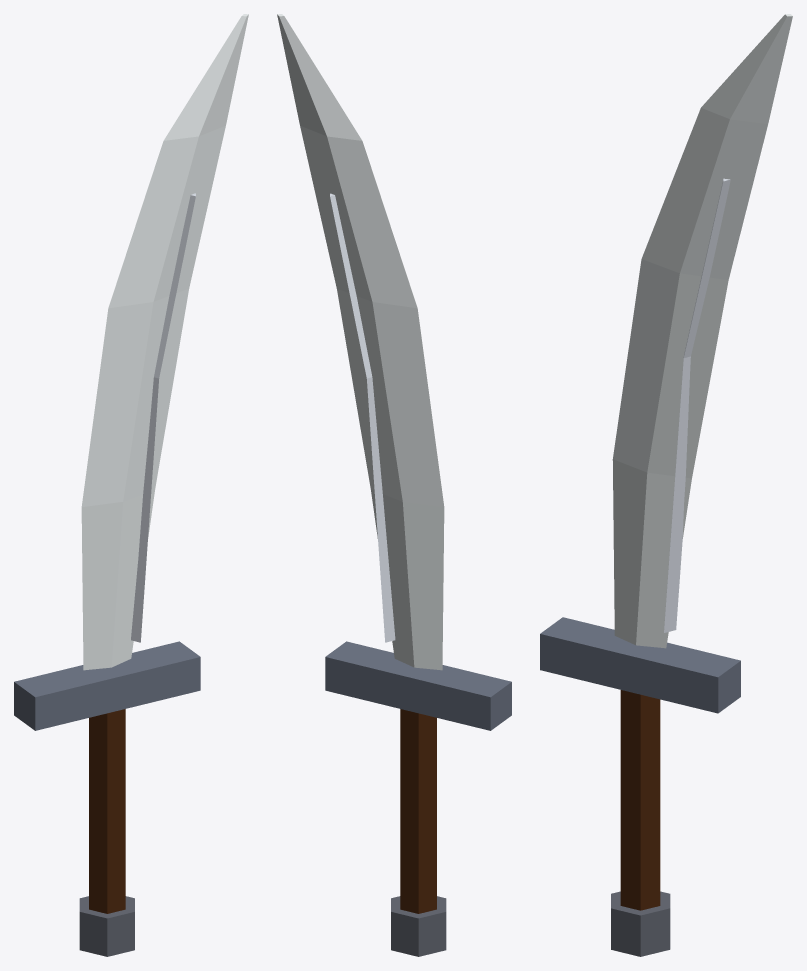
The model's file is wpn_melee_1h_4.glb.
The picture shows the model from 3 angles, left to right: view 1: azimuth 30°, elevation 25°; view 2: azimuth 150°, elevation 25°; view 3: azimuth 330°, elevation 25°; orthographic projection. The views are drawn at different scales.
Parts seen in each view (by area): view 1: wpn_melee_1h_4; view 2: wpn_melee_1h_4; view 3: wpn_melee_1h_4.
Boxes of the visible parts, bbox=[...] form: wpn_melee_1h_4: bbox=[14, 14, 248, 956]; wpn_melee_1h_4: bbox=[277, 14, 511, 956]; wpn_melee_1h_4: bbox=[540, 14, 792, 956].
Bounding box in the file's own units: 0.244 × 0.93 × 0.052.
